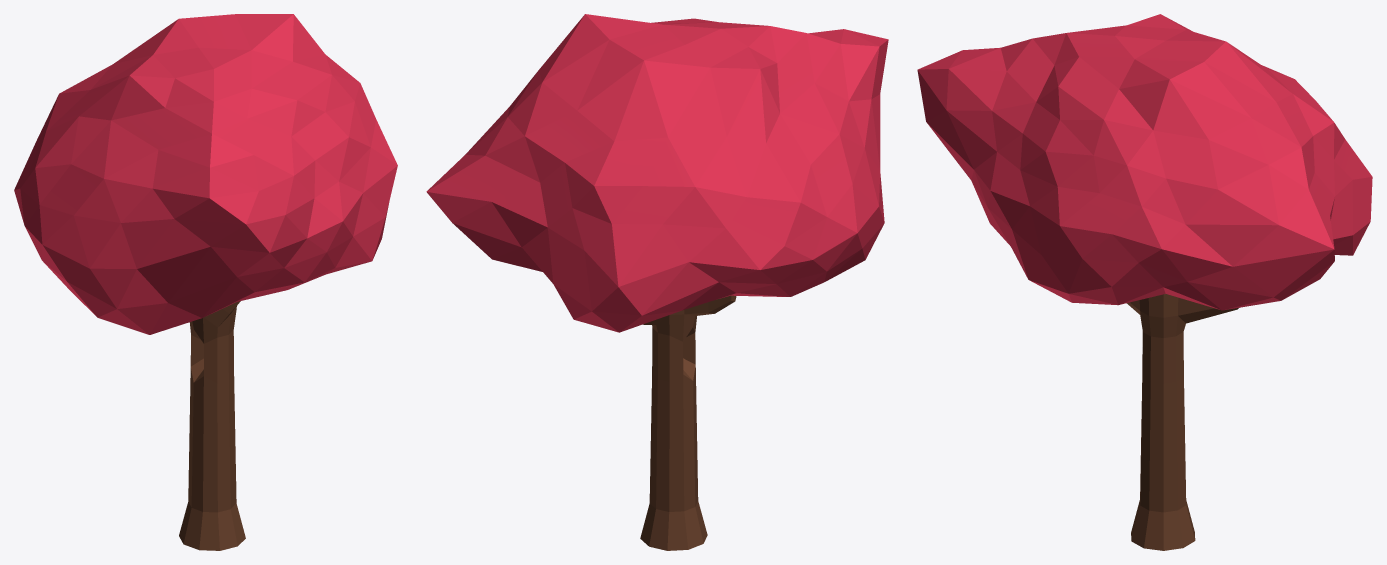
The model's file is Natures2t3-purple.fbx.
3 renders of one model, left to right at view 1: azimuth 30°, elevation 25°; view 2: azimuth 150°, elevation 25°; view 3: azimuth 270°, elevation 25°, orthographic.
Visible parts, largest first — view 1: t3-purple; view 2: t3-purple; view 3: t3-purple.
Part boxes in pixels (left/top/right/bottom): t3-purple: left=14, top=14, right=397, bottom=550; t3-purple: left=426, top=14, right=888, bottom=550; t3-purple: left=917, top=14, right=1372, bottom=550.
Size of the model in its own units: 651 by 923 by 764.
